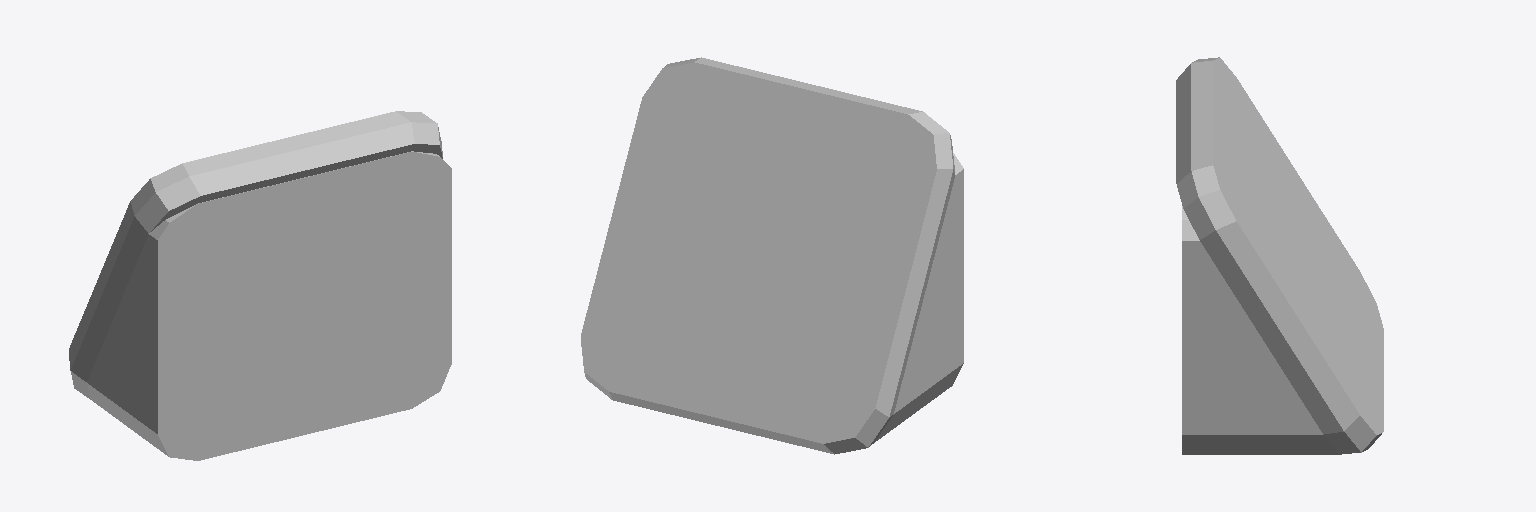
The model's file is block-snow-large-slope-steep.obj.
The picture shows the model from 3 angles: view 1: azimuth 30°, elevation 25°; view 2: azimuth 150°, elevation 25°; view 3: azimuth 270°, elevation 25°; orthographic projection.
Parts seen in each view (by area): view 1: block-snow-large-slope-steep; view 2: block-snow-large-slope-steep; view 3: block-snow-large-slope-steep.
Boxes of the visible parts, box(x1,y1,x2,y2) form: block-snow-large-slope-steep: box(69, 111, 451, 460); block-snow-large-slope-steep: box(581, 57, 963, 454); block-snow-large-slope-steep: box(1176, 57, 1383, 454).
Size of the model in its own units: 2.08 by 1.86 by 1.22.